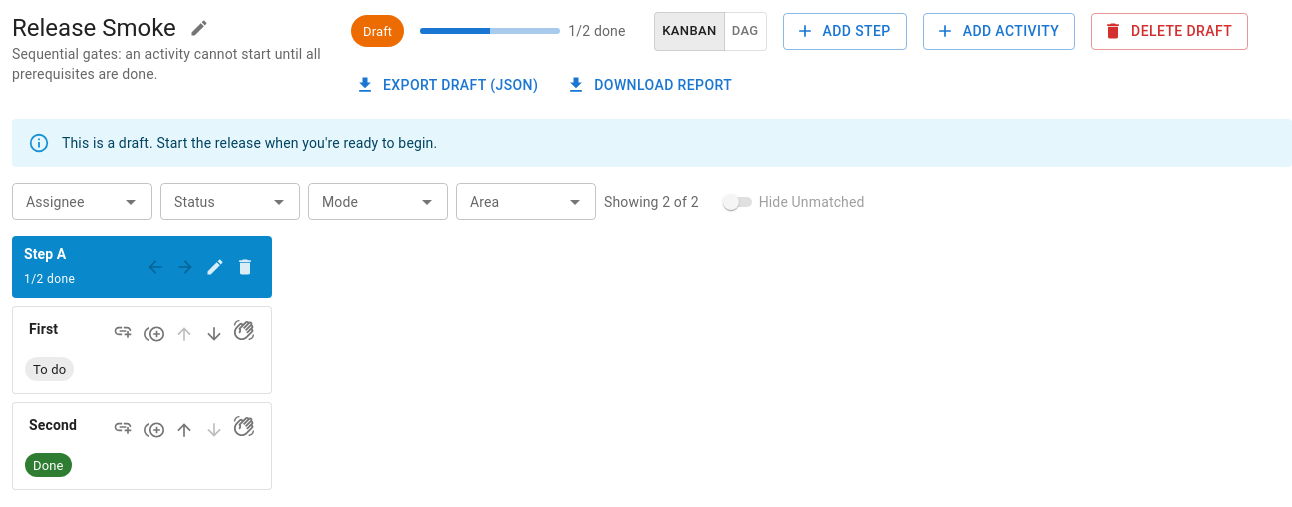
Test: filtro de status destaca cards no Kanban sem alterar contadores
The width and height of the screenshot is (1292, 507).
Expected: the text "First" is shown, [29, 321, 58, 337]
Expected: the text "Showing 2 of 2" is shown, [604, 192, 699, 212]
Press the mouse on the dropdown labelled "Status" at (214, 202), box [166, 189, 261, 214]
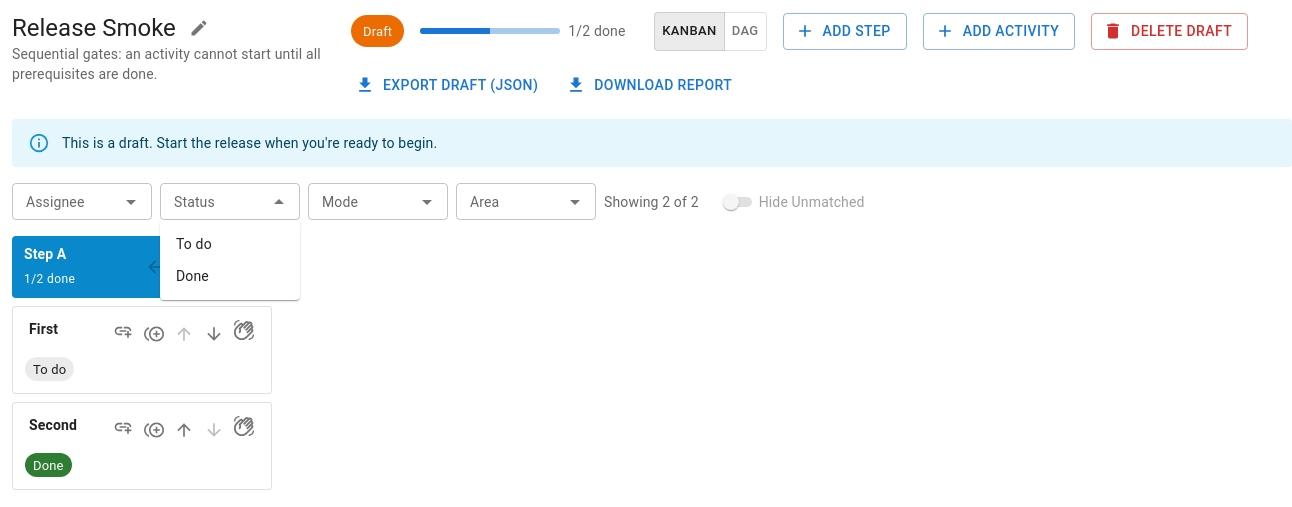
Click the option "To do" at (194, 244), box [176, 236, 212, 252]
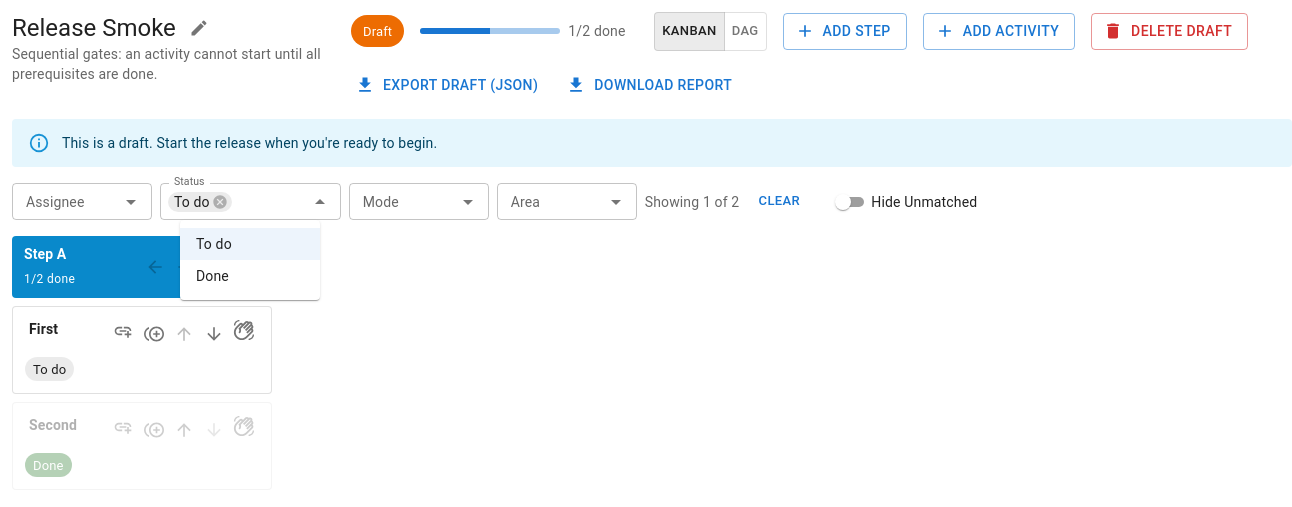
Expected: the 2nd text "1/2 done" is shown, [24, 272, 75, 286]
Expected: the text "Showing 1 of 2" is shown, [645, 192, 739, 212]
# Clear aparece com o filtro ativo e zera tudo
Click the button with aria-label "Clear filters" at (779, 202), box [747, 186, 811, 217]
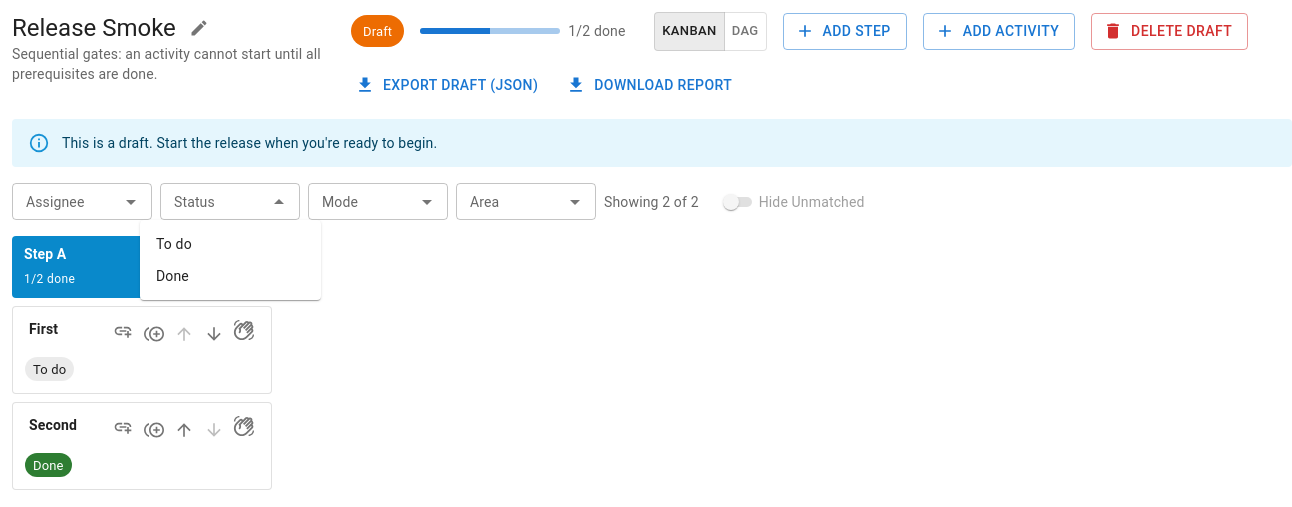
Expected: the text "Showing 2 of 2" is shown, [604, 192, 699, 212]
